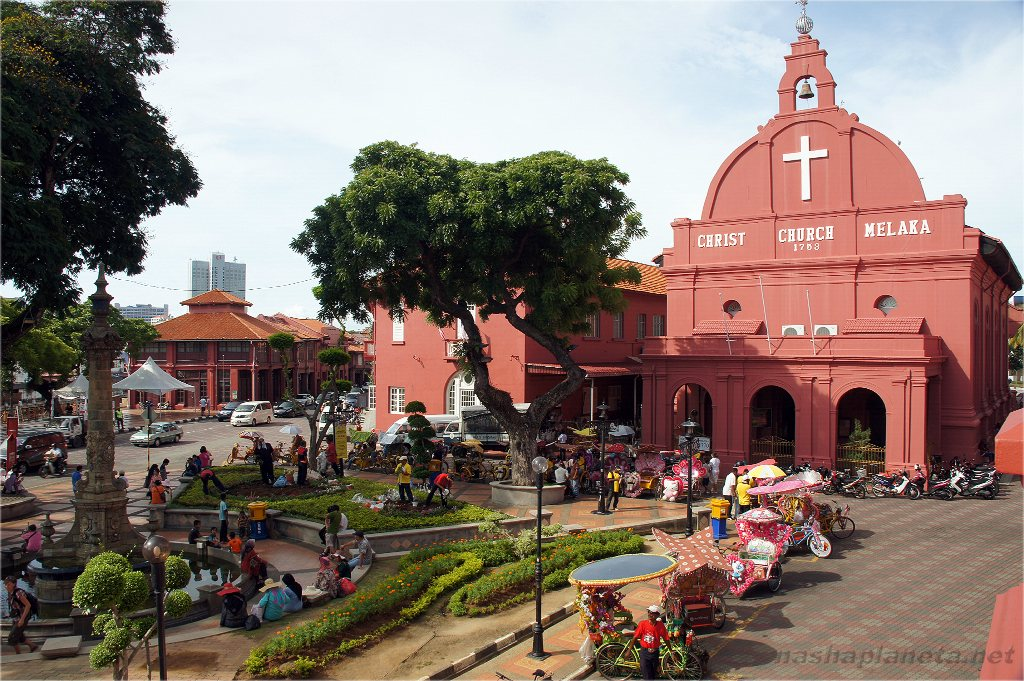Church: (657, 3, 998, 463)
